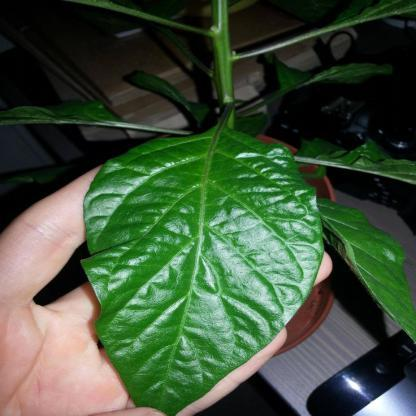Bell_pepper leaf spot: (81, 125, 326, 415)
